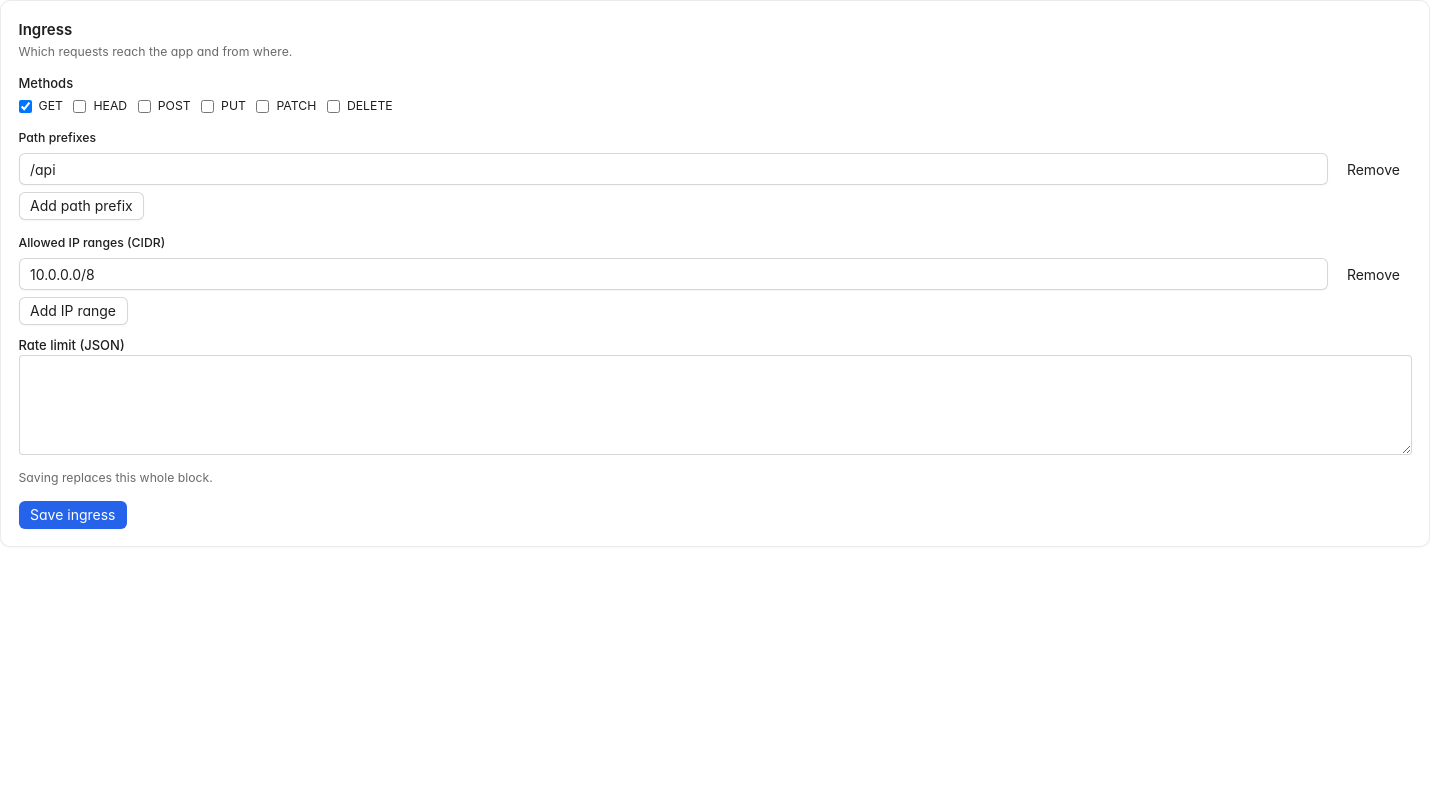
app settings › ip_allow rejects invalid CIDR client-side
The image size is (1440, 810).
Type "10.0.0.0/33" into the field below "Allowed IP ranges (CIDR)" at (673, 274), box [18, 258, 1328, 290]
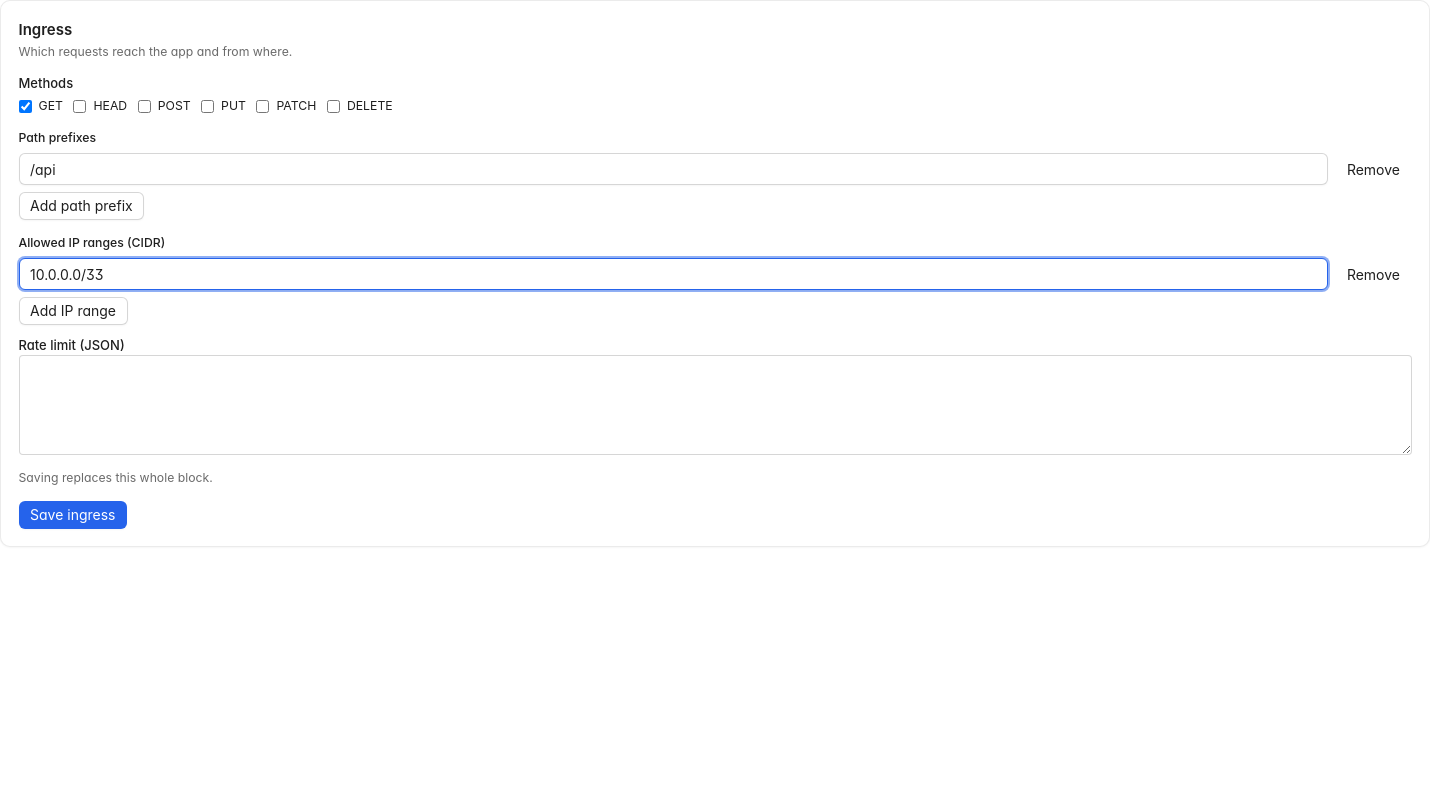
Click the button "Save ingress" at (73, 515), box [18, 501, 127, 529]
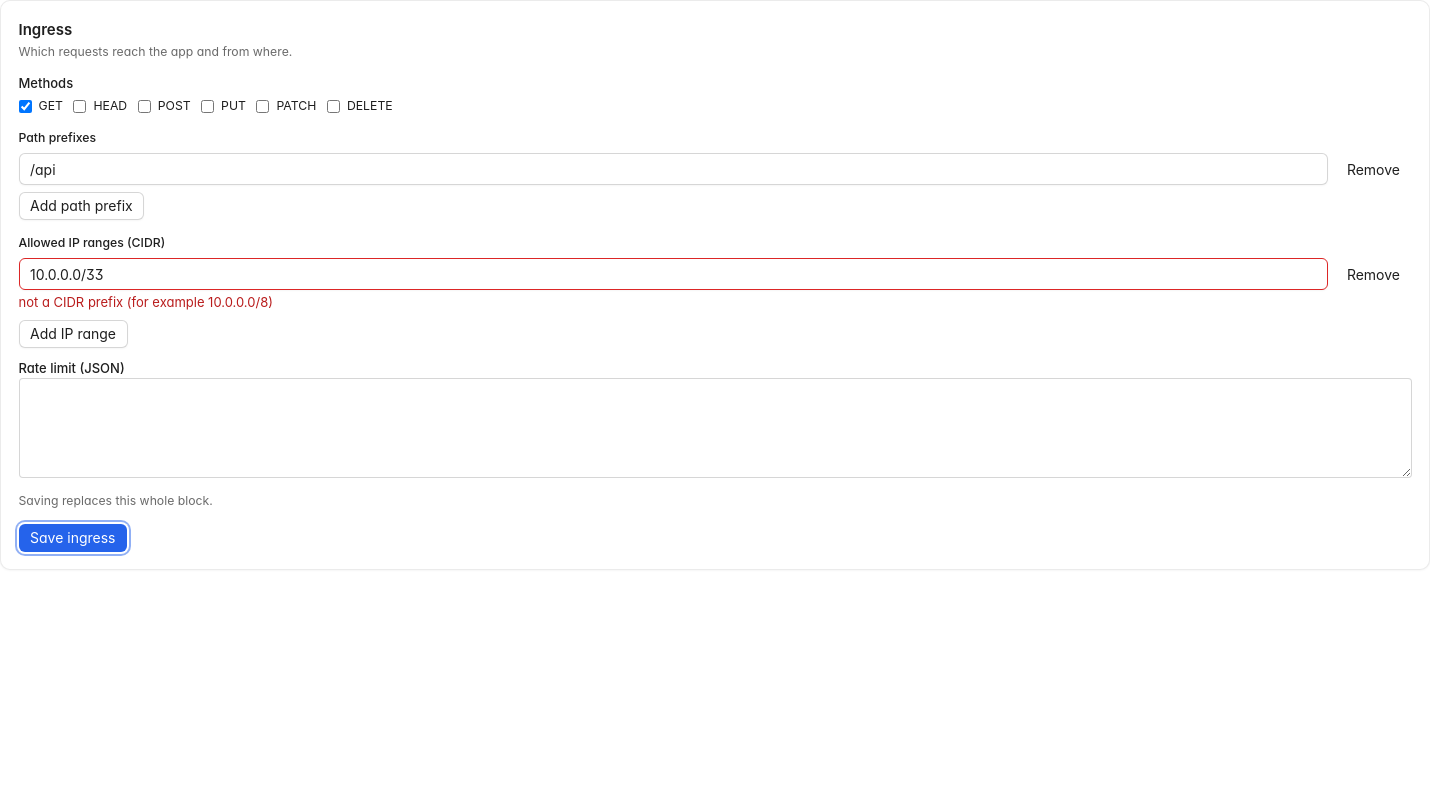
Now the text "not a CIDR prefix (for example 10.0.0.0/8)" is shown, box [18, 294, 273, 310]
